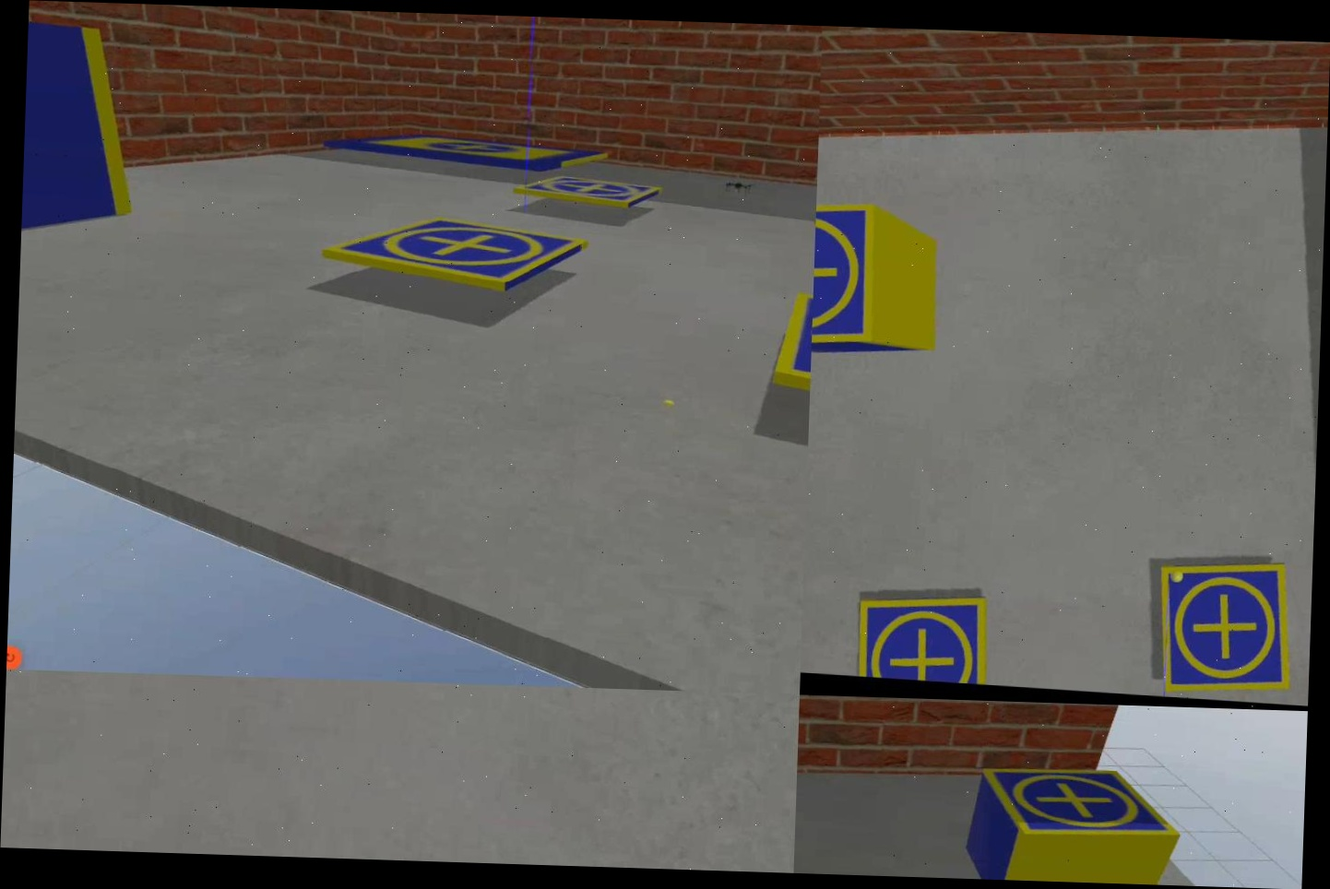large_base: (323, 125, 612, 182)
small_base: (325, 209, 594, 302), (1148, 555, 1297, 700), (979, 765, 1184, 846), (854, 586, 990, 687), (812, 199, 879, 355), (514, 168, 665, 217)
